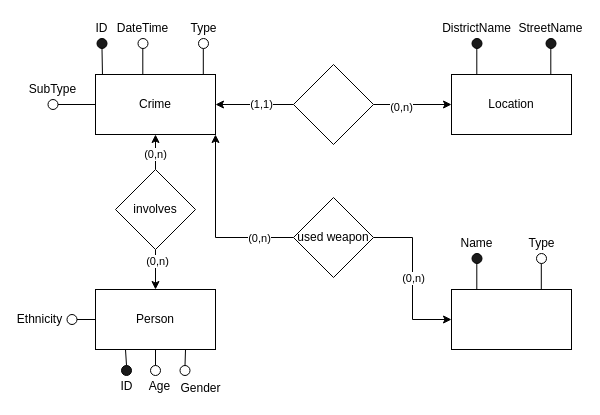
Some shapes in this 600 by 415 pixel diagram are drawn without their labels. The box of each missing label's shape, as (x1, y1, x2, y2) in pixels:
occurred at: (292, 64, 374, 144)
Weapon: (450, 288, 572, 350)
